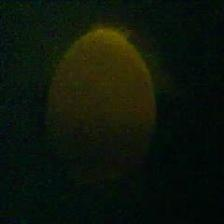fertile: (46, 26, 160, 197)
